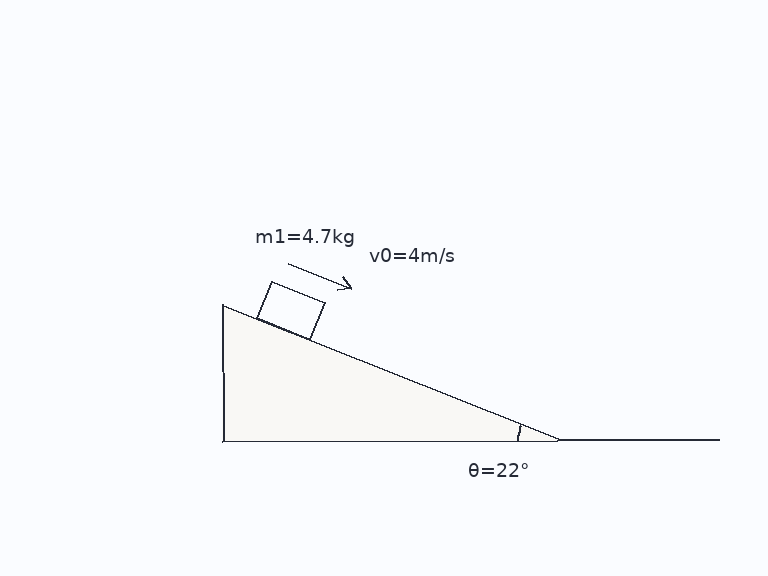block: (255, 279, 326, 341)
ramp: (220, 302, 560, 442)
